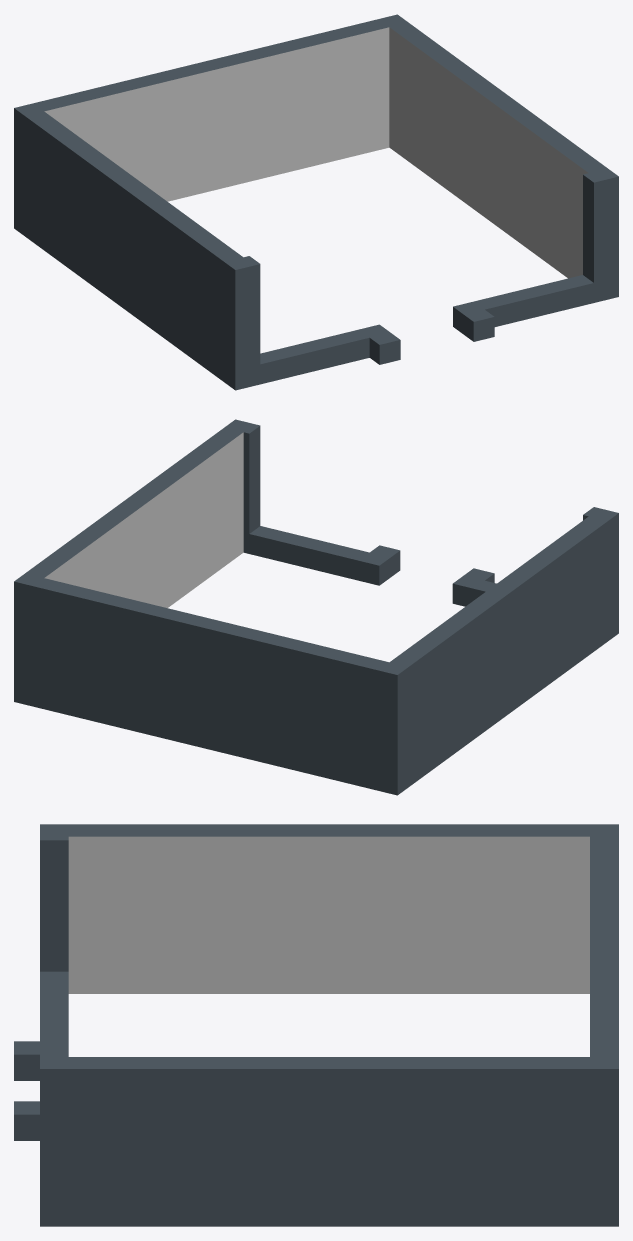
File: Room04_e01.FBX
3 renders of one model, top to bottom at view 1: azimuth 30°, elevation 25°; view 2: azimuth 150°, elevation 25°; view 3: azimuth 270°, elevation 25°, orthographic. The views are drawn at different scales.
Visible parts, largest first — view 1: Room04_e01; view 2: Room04_e01; view 3: Room04_e01.
Boxes of the visible parts, x1=… form: Room04_e01: x1=14, y1=14, x2=618, y2=390; Room04_e01: x1=14, y1=419, x2=618, y2=795; Room04_e01: x1=14, y1=824, x2=618, y2=1226.
Size of the model in its own units: 1000 by 300 by 1045.
